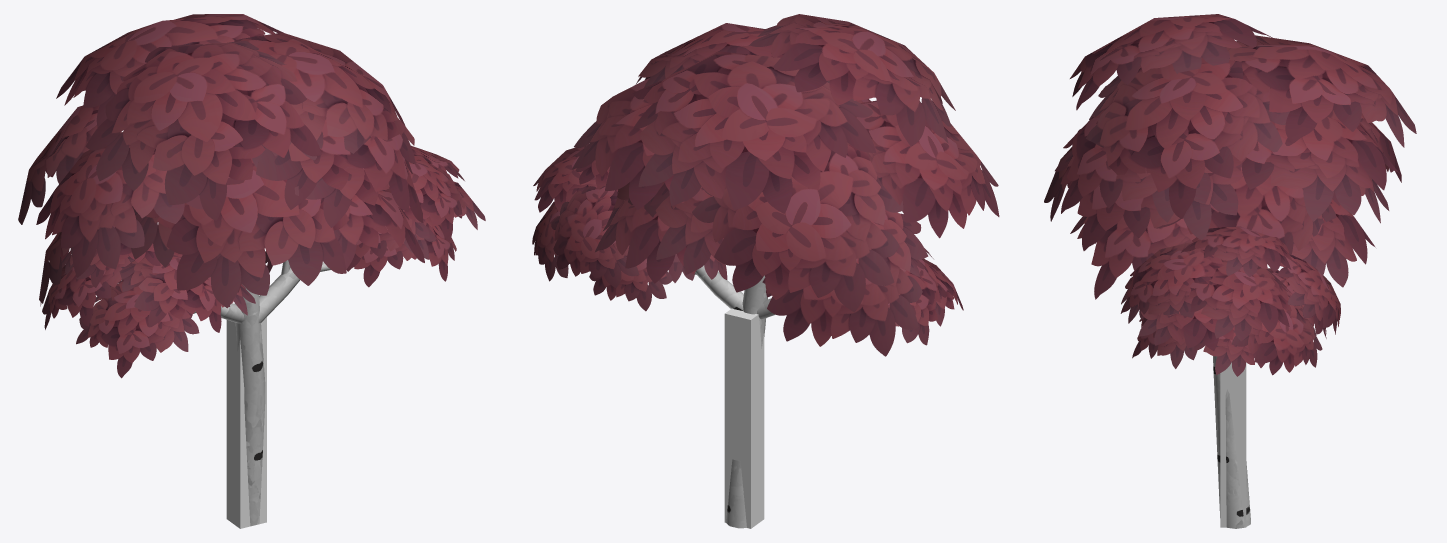
Rendered from tree_pink_1.glb.
3 views of the same model, side by side, from view 1: azimuth 30°, elevation 25°; view 2: azimuth 150°, elevation 25°; view 3: azimuth 270°, elevation 25° (orthographic). The views are drawn at different scales.
Parts seen in each view (by area): view 1: Tree_7, Cube; view 2: Tree_7, Cube; view 3: Tree_7, Cube.
Boxes of the visible parts, x1,y1,x2,y2 form: Tree_7: [18, 14, 485, 526]; Cube: [226, 317, 266, 528]; Tree_7: [532, 14, 999, 528]; Cube: [724, 308, 764, 528]; Tree_7: [1044, 14, 1416, 528]; Cube: [1220, 362, 1246, 527].
Bounding box in the file's own units: 8.46 × 8.94 × 6.82.
2 materials, 2 textured.
